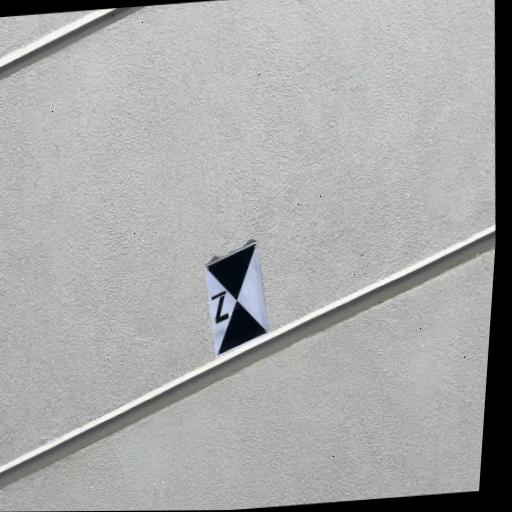target7: (206, 241, 269, 359)
